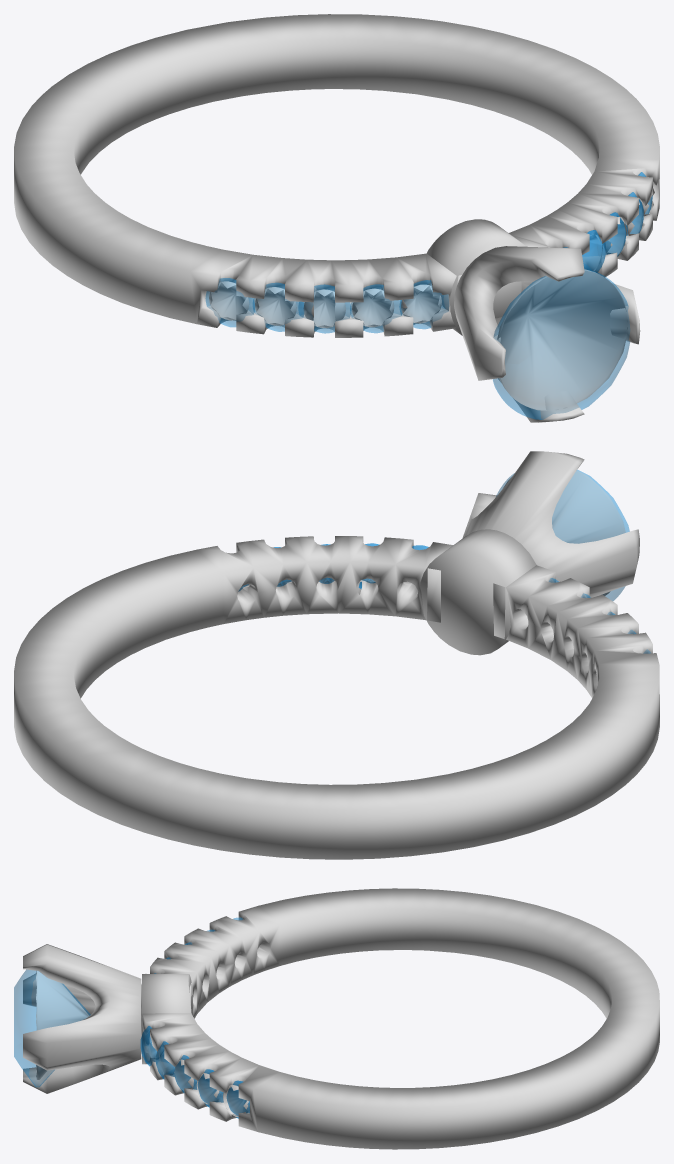
The model's file is diamonds-ring.glb.
3 renders of one model, top to bottom at view 1: azimuth 30°, elevation 25°; view 2: azimuth 150°, elevation 25°; view 3: azimuth 270°, elevation 25°, orthographic. The views are drawn at different scales.
Parts seen in each view (by area): view 1: stevenuntitled, cruz, cruz.018, cruz.020, cruz.017, cruz.016, cruz.019, cruz.002, cruz.007; view 2: stevenuntitled, cruz; view 3: stevenuntitled, cruz, cruz.004, cruz.005, cruz.001, cruz.009.
Boxes of the visible parts, x1,y1,x2,y2 form: stevenuntitled: [14, 14, 659, 422]; cruz: [493, 269, 629, 419]; cruz.018: [350, 284, 402, 332]; cruz.020: [205, 278, 254, 326]; cruz.017: [298, 284, 351, 333]; cruz.016: [253, 283, 303, 331]; cruz.019: [399, 280, 448, 328]; cruz.002: [582, 230, 605, 272]; cruz.007: [582, 230, 605, 271]; stevenuntitled: [14, 451, 659, 859]; cruz: [496, 470, 629, 600]; stevenuntitled: [23, 888, 659, 1149]; cruz: [14, 970, 90, 1086]; cruz.004: [198, 1069, 223, 1107]; cruz.005: [227, 1081, 249, 1118]; cruz.001: [141, 1026, 156, 1065]; cruz.009: [198, 1070, 222, 1106].
Bounding box in the file's own units: 21.3 × 6.18 × 26.43.
